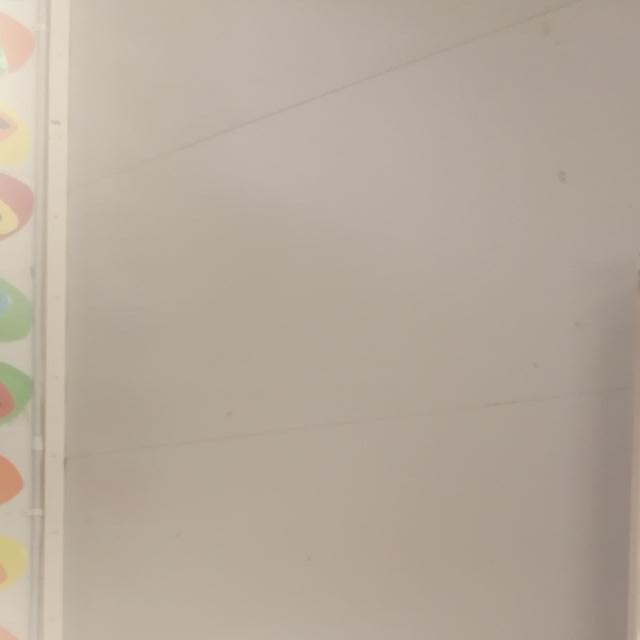fluorescent tube: (555, 224, 640, 640)
